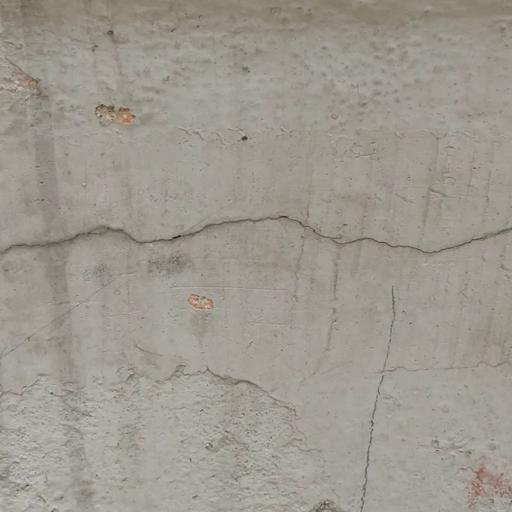minor_crack: (0, 201, 512, 264), (351, 277, 422, 512)
